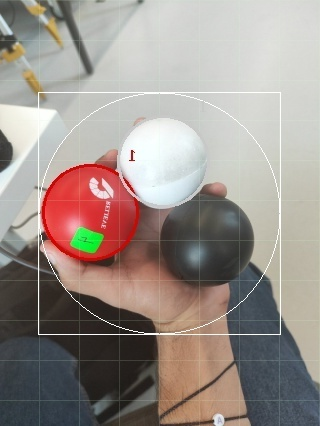Pelota blanca: (117, 116, 209, 211)
Pelota negra: (159, 185, 257, 283)
Pelota roja: (39, 161, 143, 262)
